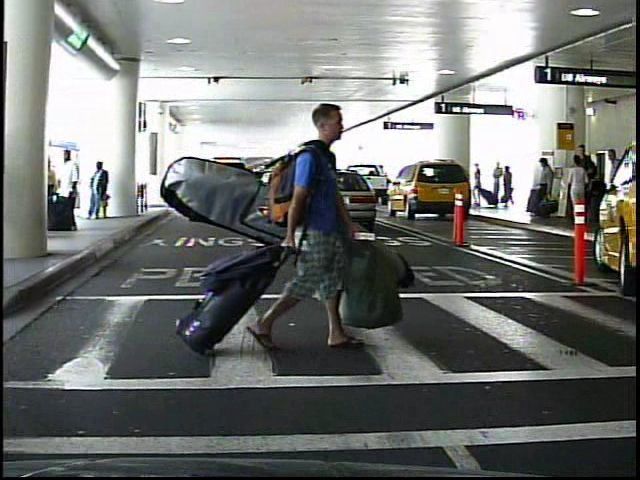person: (275, 91, 373, 367), (52, 146, 83, 234), (76, 159, 103, 225), (564, 155, 588, 226), (571, 143, 592, 221), (533, 157, 557, 223), (594, 146, 620, 204), (470, 161, 484, 208), (491, 162, 505, 209), (501, 162, 512, 206)
